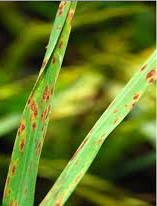Bercak Coklat: (50, 54, 58, 68), (58, 37, 63, 48)
